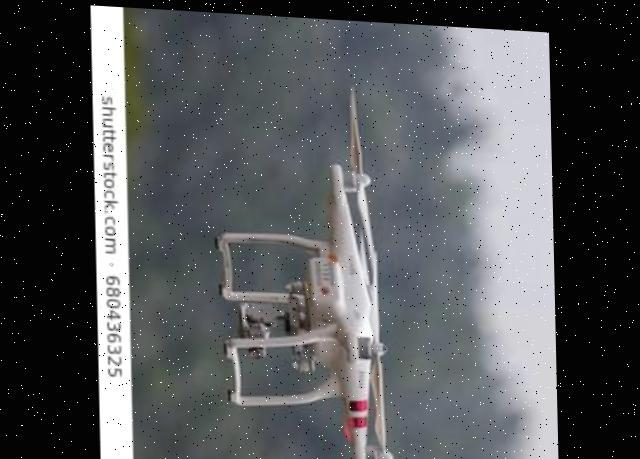drone: (182, 56, 437, 459)
